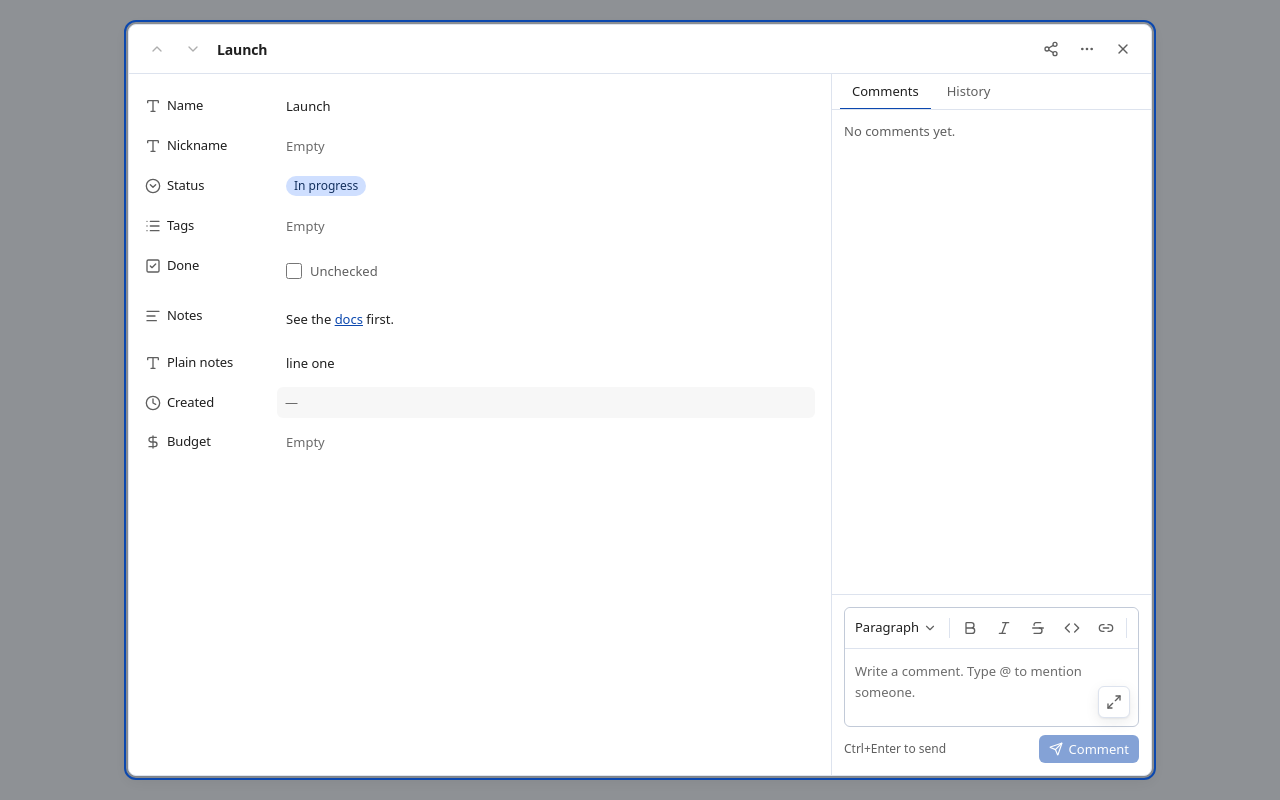
Test: ExpandedRecord: view mode › clicking a value replaces it with its editor, focused with the caret at the end
Step 1. Click the button with aria-label "Edit Name" → (308, 106), box [286,97,330,115]
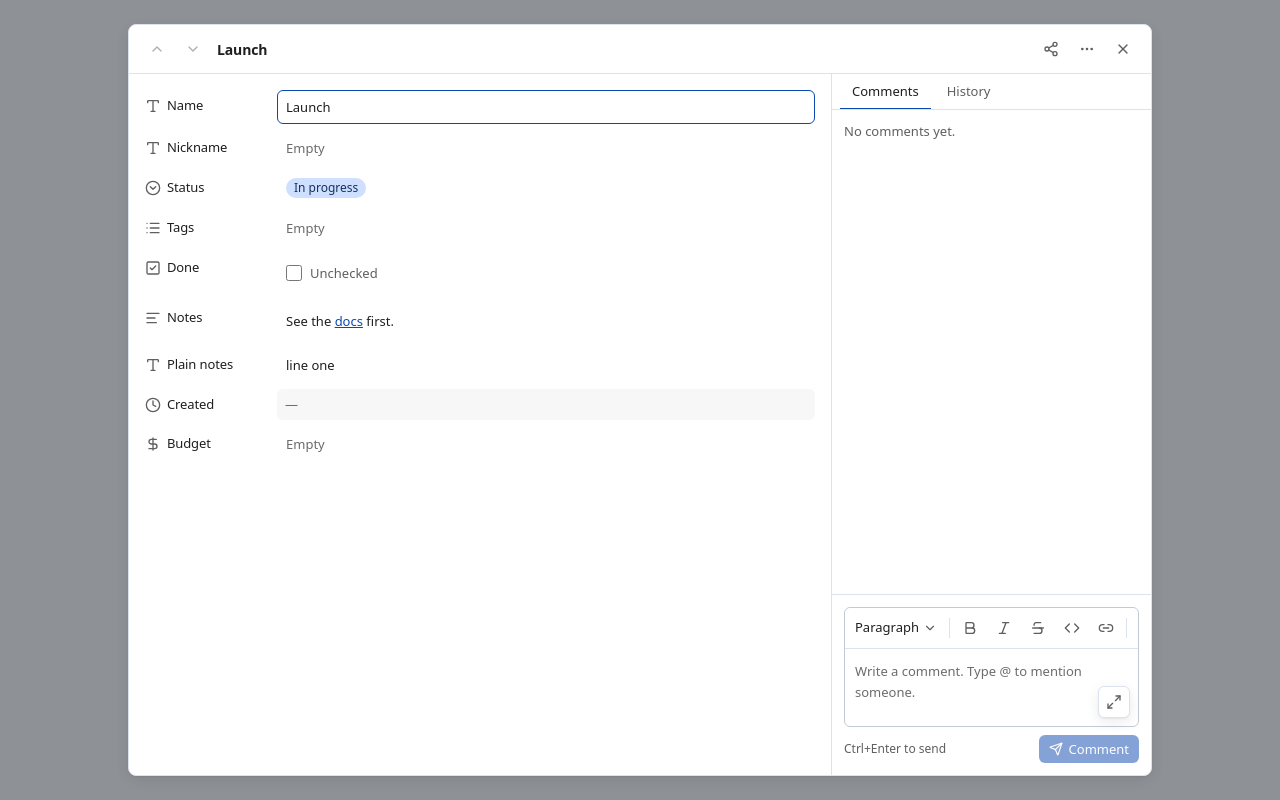
Check: the field labelled "Name" holds "Launch", box [278,91,814,123]
